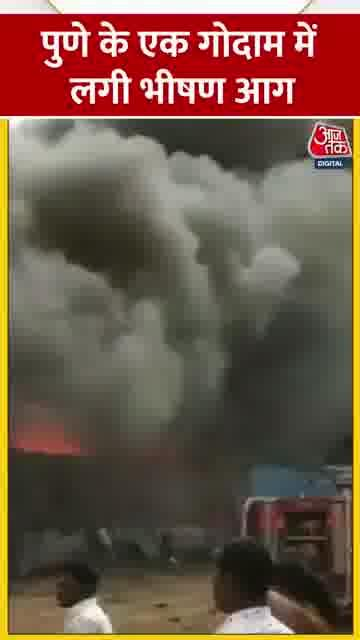smoke: (14, 152, 333, 442)
